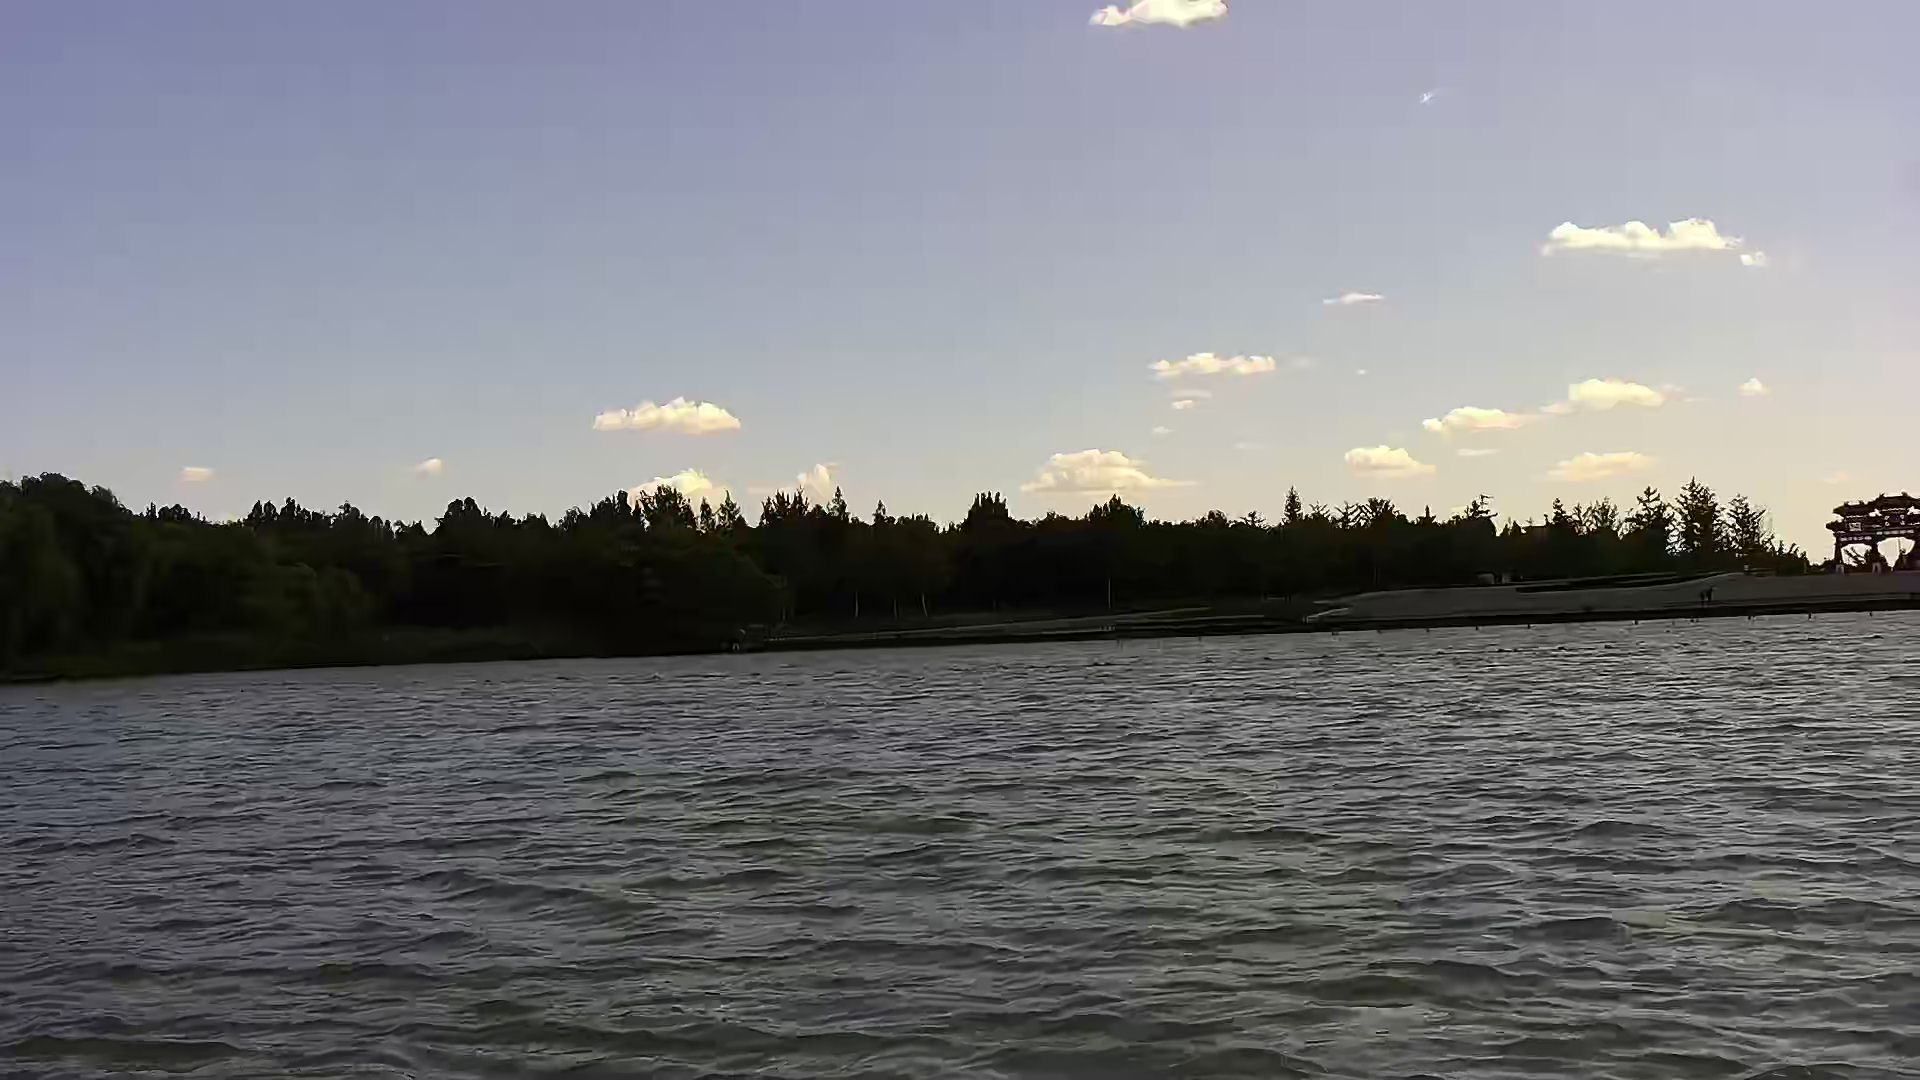harbor: (818, 554, 1920, 658)
